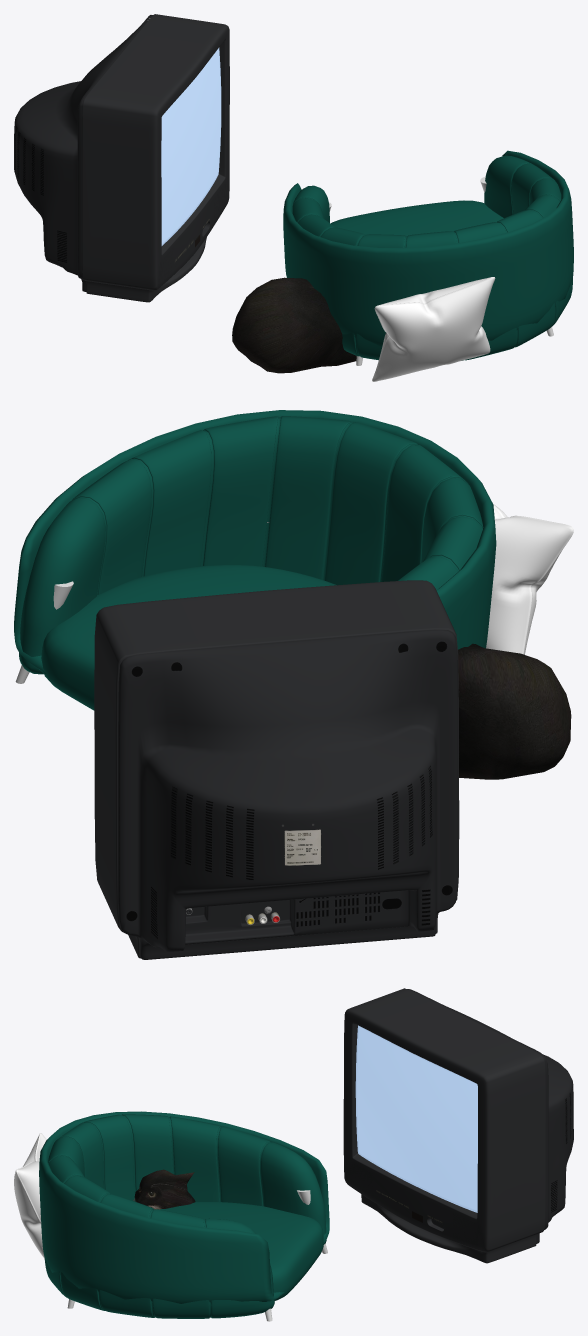
The model's file is cat-2.glb.
3 renders of one model, top to bottom at view 1: azimuth 30°, elevation 25°; view 2: azimuth 150°, elevation 25°; view 3: azimuth 270°, elevation 25°, orthographic. The views are drawn at different scales.
Visible parts, largest first — view 1: Front_section, Cube_2, rear_section, Cube.001_3, Plane_6, dingus, Screen, Cube.002_4; view 2: rear_section, Cube.001_3, Front_section, dingus, Cube_2, Cube.002_4, Plane_6; view 3: Front_section, Cube.001_3, Cube_2, Screen, Cube.002_4, rear_section, Plane_6, dingus.
Part boxes in pixels (bbox=[...]): Front_section: bbox=[82, 14, 229, 302]; Cube_2: bbox=[283, 150, 573, 346]; rear_section: bbox=[14, 15, 152, 291]; Cube.001_3: bbox=[292, 155, 572, 360]; Plane_6: bbox=[372, 277, 495, 381]; dingus: bbox=[232, 277, 356, 373]; Screen: bbox=[161, 47, 221, 245]; Cube.002_4: bbox=[331, 200, 503, 236]; rear_section: bbox=[118, 630, 458, 959]; Cube.001_3: bbox=[19, 416, 483, 674]; Front_section: bbox=[94, 580, 459, 958]; dingus: bbox=[458, 643, 571, 779]; Cube_2: bbox=[14, 410, 496, 673]; Cube.002_4: bbox=[41, 565, 336, 710]; Plane_6: bbox=[486, 504, 573, 654]; Front_section: bbox=[343, 988, 545, 1263]; Cube.001_3: bbox=[44, 1114, 326, 1318]; Cube_2: bbox=[39, 1111, 329, 1303]; Screen: bbox=[355, 1025, 477, 1212]; Cube.002_4: bbox=[158, 1202, 323, 1300]; rear_section: bbox=[407, 989, 573, 1243]; Plane_6: bbox=[14, 1133, 46, 1258]; dingus: bbox=[133, 1169, 195, 1209].
Size of the model in its own units: 2.58 by 1.31 by 3.37.
Materials: 8 (5 with a texture image).
